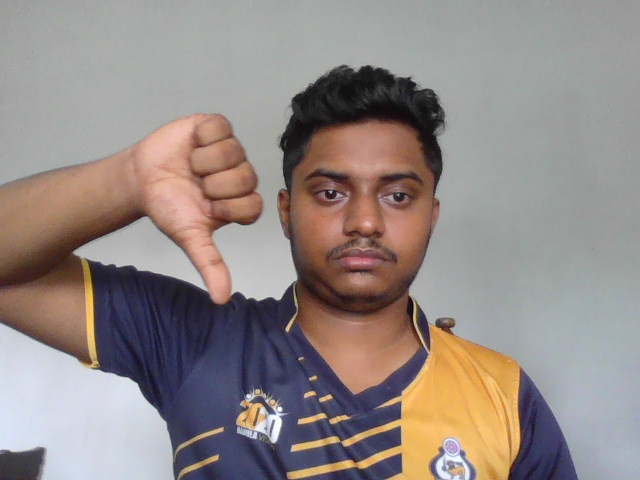Disagree: (136, 111, 264, 306)
